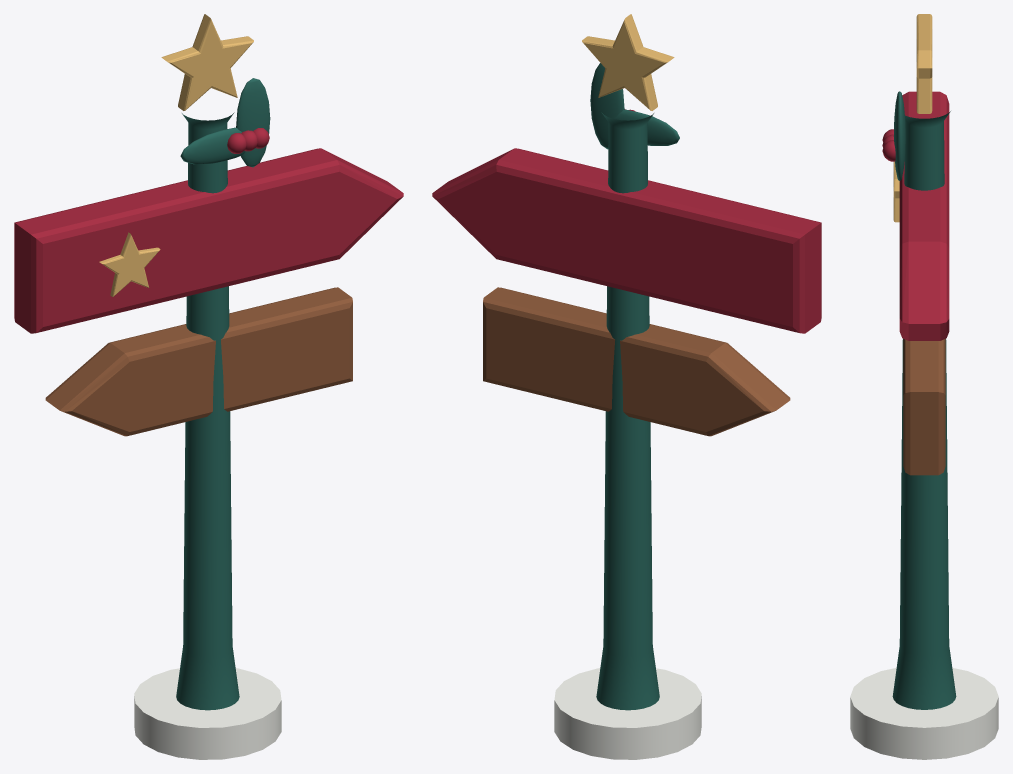
Rendered from christmas-storybook-northbound-signpost-e88019e7__18780.glb.
The picture shows the model from 3 angles, left to right: view 1: azimuth 30°, elevation 25°; view 2: azimuth 150°, elevation 25°; view 3: azimuth 270°, elevation 25°; orthographic projection.
Visible parts, largest first — view 1: berry, oak, pine, cream, brass; view 2: berry, oak, pine, cream, brass; view 3: pine, cream, berry, oak, brass.
Part boxes in pixels (bbox=[...]): berry: bbox=[14, 128, 403, 333]; oak: bbox=[45, 287, 352, 436]; pine: bbox=[176, 78, 270, 710]; cream: bbox=[134, 668, 281, 759]; brass: bbox=[99, 14, 253, 296]; berry: bbox=[432, 109, 821, 333]; oak: bbox=[483, 287, 790, 436]; pine: bbox=[590, 63, 679, 710]; cream: bbox=[554, 668, 701, 759]; brass: bbox=[582, 14, 674, 110]; pine: bbox=[892, 91, 956, 709]; cream: bbox=[850, 668, 998, 759]; berry: bbox=[882, 91, 949, 340]; oak: bbox=[903, 339, 945, 475]; brass: bbox=[893, 14, 932, 222].
Bounding box in the file's own units: 1.22 × 2.23 × 0.42.
